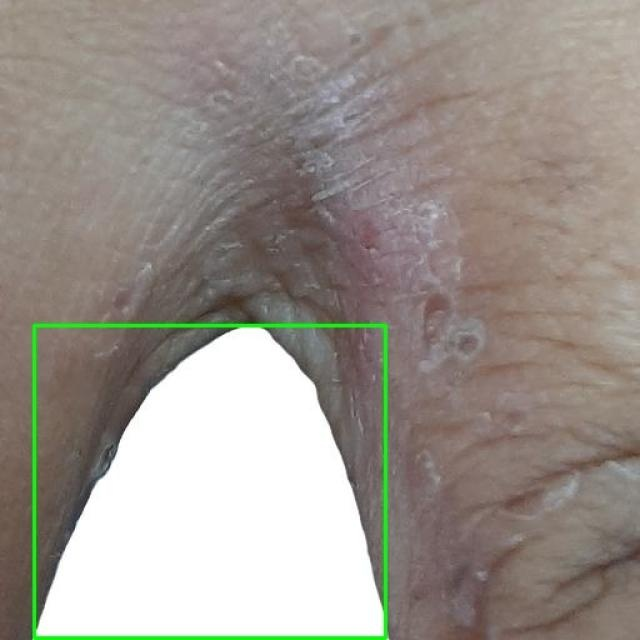Scabies: (34, 326, 386, 639)
